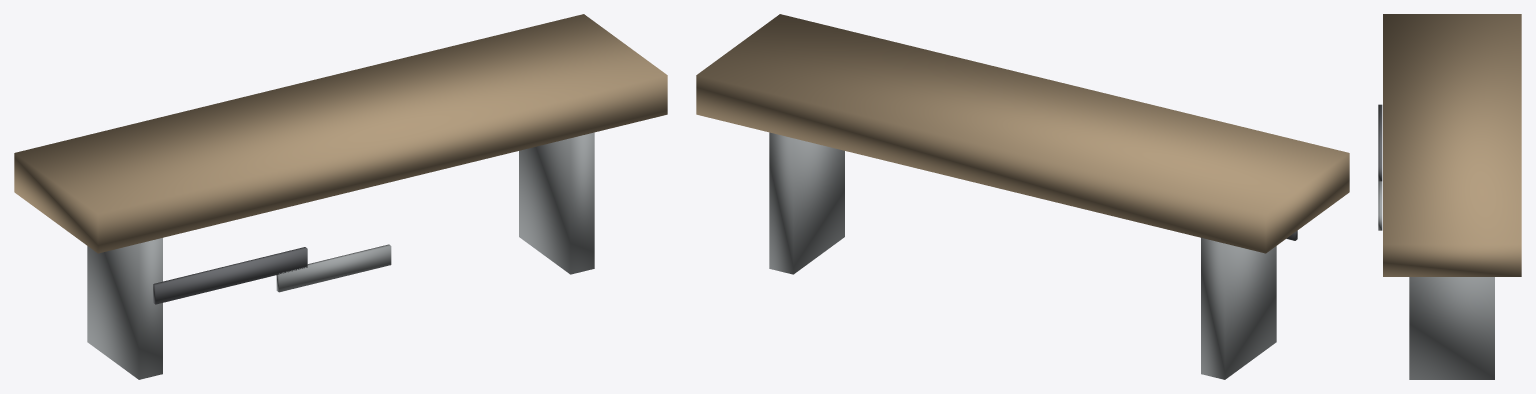
Rendered from holding_cell_bench__weathered.glb.
3 renders of one model, left to right at view 1: azimuth 30°, elevation 25°; view 2: azimuth 150°, elevation 25°; view 3: azimuth 270°, elevation 25°, orthographic. The views are drawn at different scales.
Parts seen in each view (by area): view 1: world; view 2: world; view 3: world.
Part boxes in pixels (x1,y1,x2,y2): world: (14, 14, 667, 379); world: (696, 14, 1349, 379); world: (1378, 14, 1521, 379).
Bounding box in the file's own units: 1.65 × 0.5297 × 0.434.
